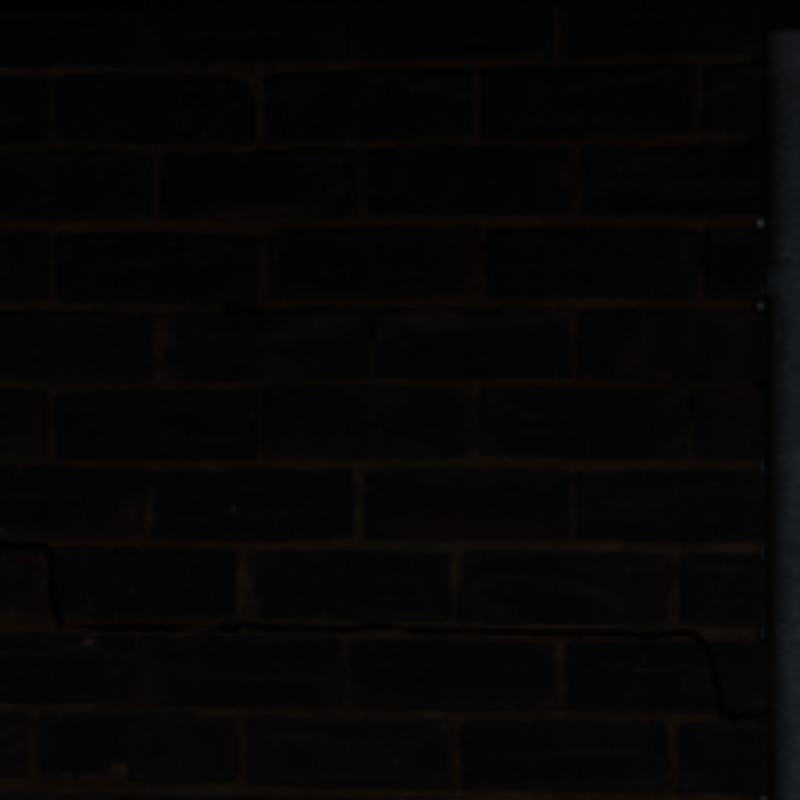crack: (452, 629, 754, 718), (0, 539, 71, 625), (71, 621, 413, 632)
